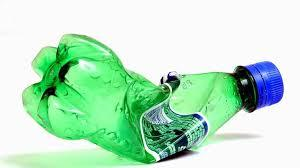plastic: (21, 35, 283, 165)
